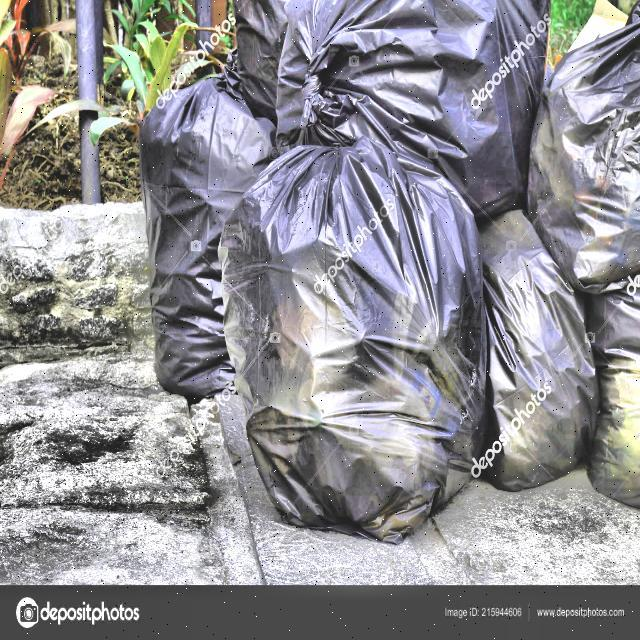Trashbag: (228, 145, 483, 533), (275, 3, 519, 216), (470, 204, 596, 499), (139, 72, 242, 404), (525, 25, 640, 296)
